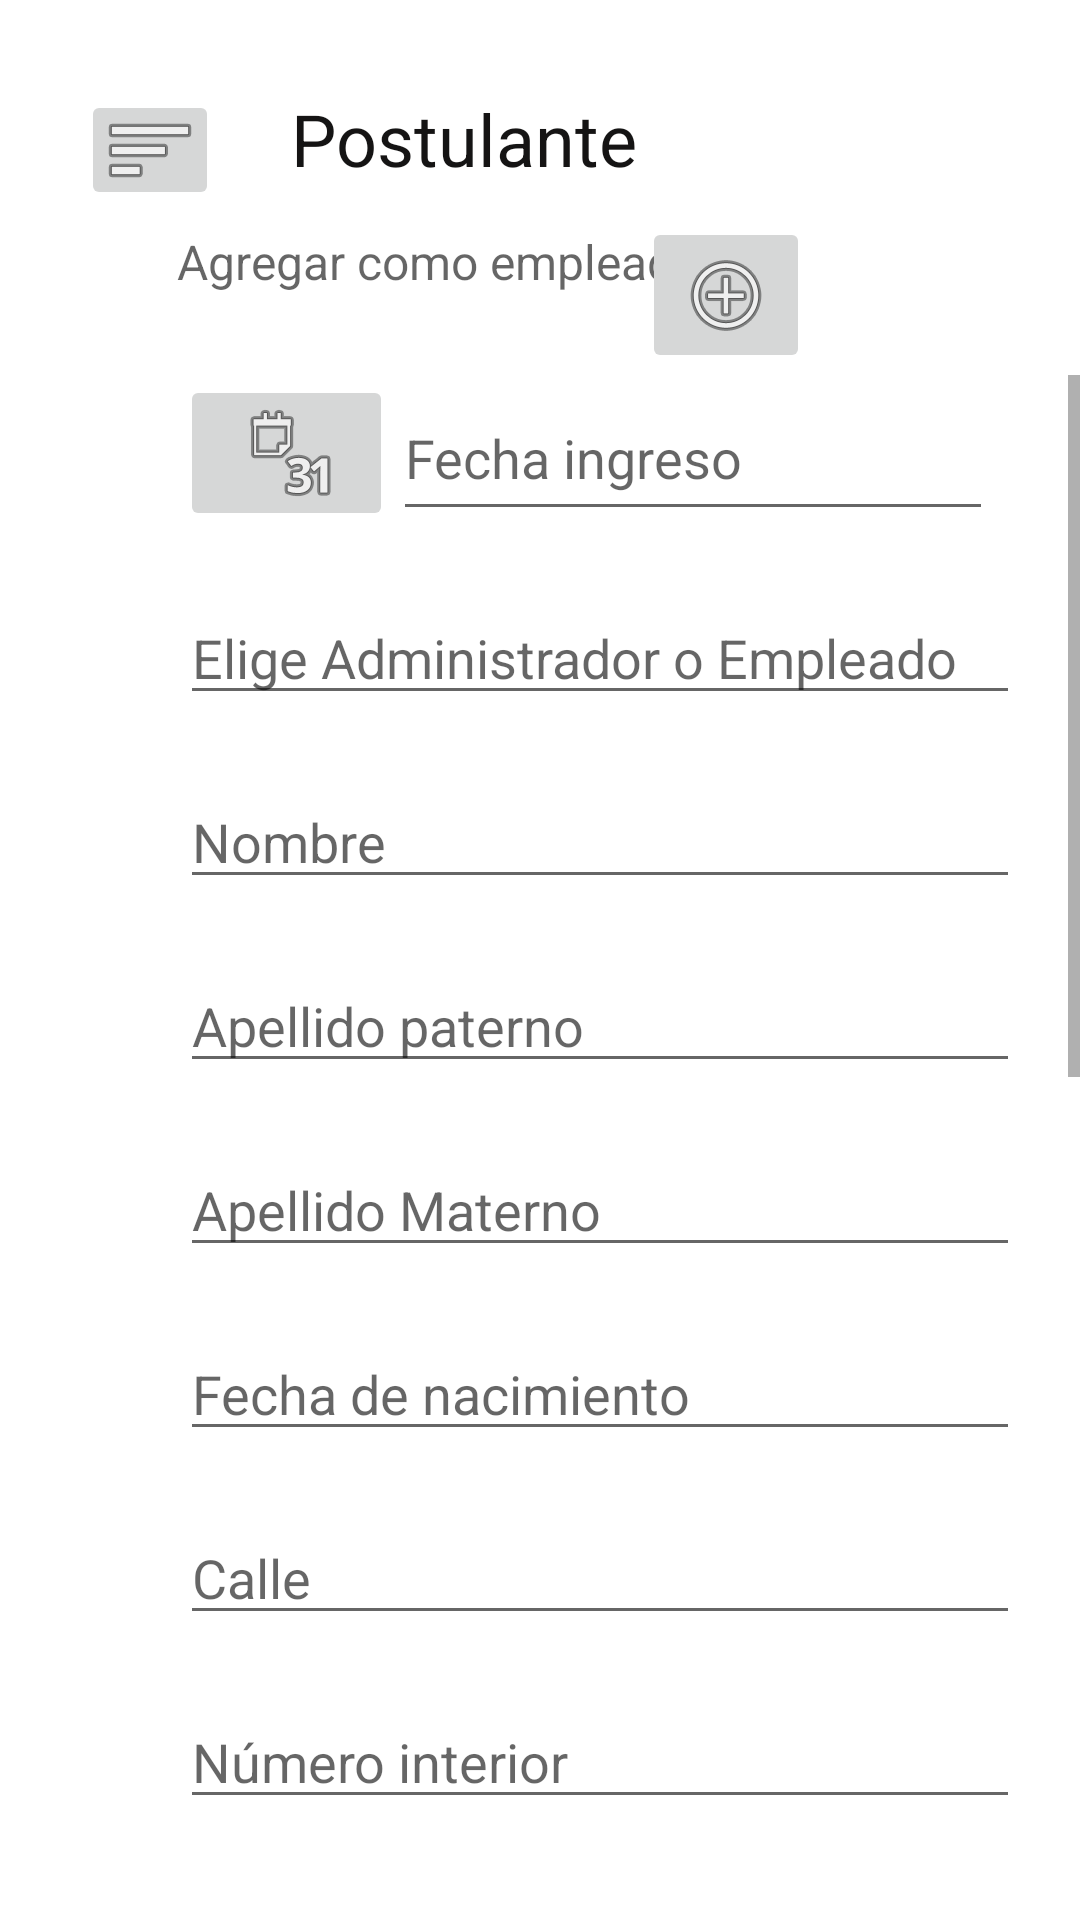

Where to tap for icons on this 1080*1920 app screen, as (x=x, y=y):
add: (x=723, y=295)
month: (x=286, y=453)
sort by size: (x=150, y=150)
